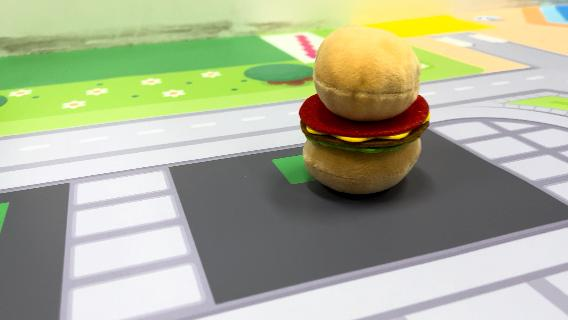burger: (296, 22, 434, 196)
